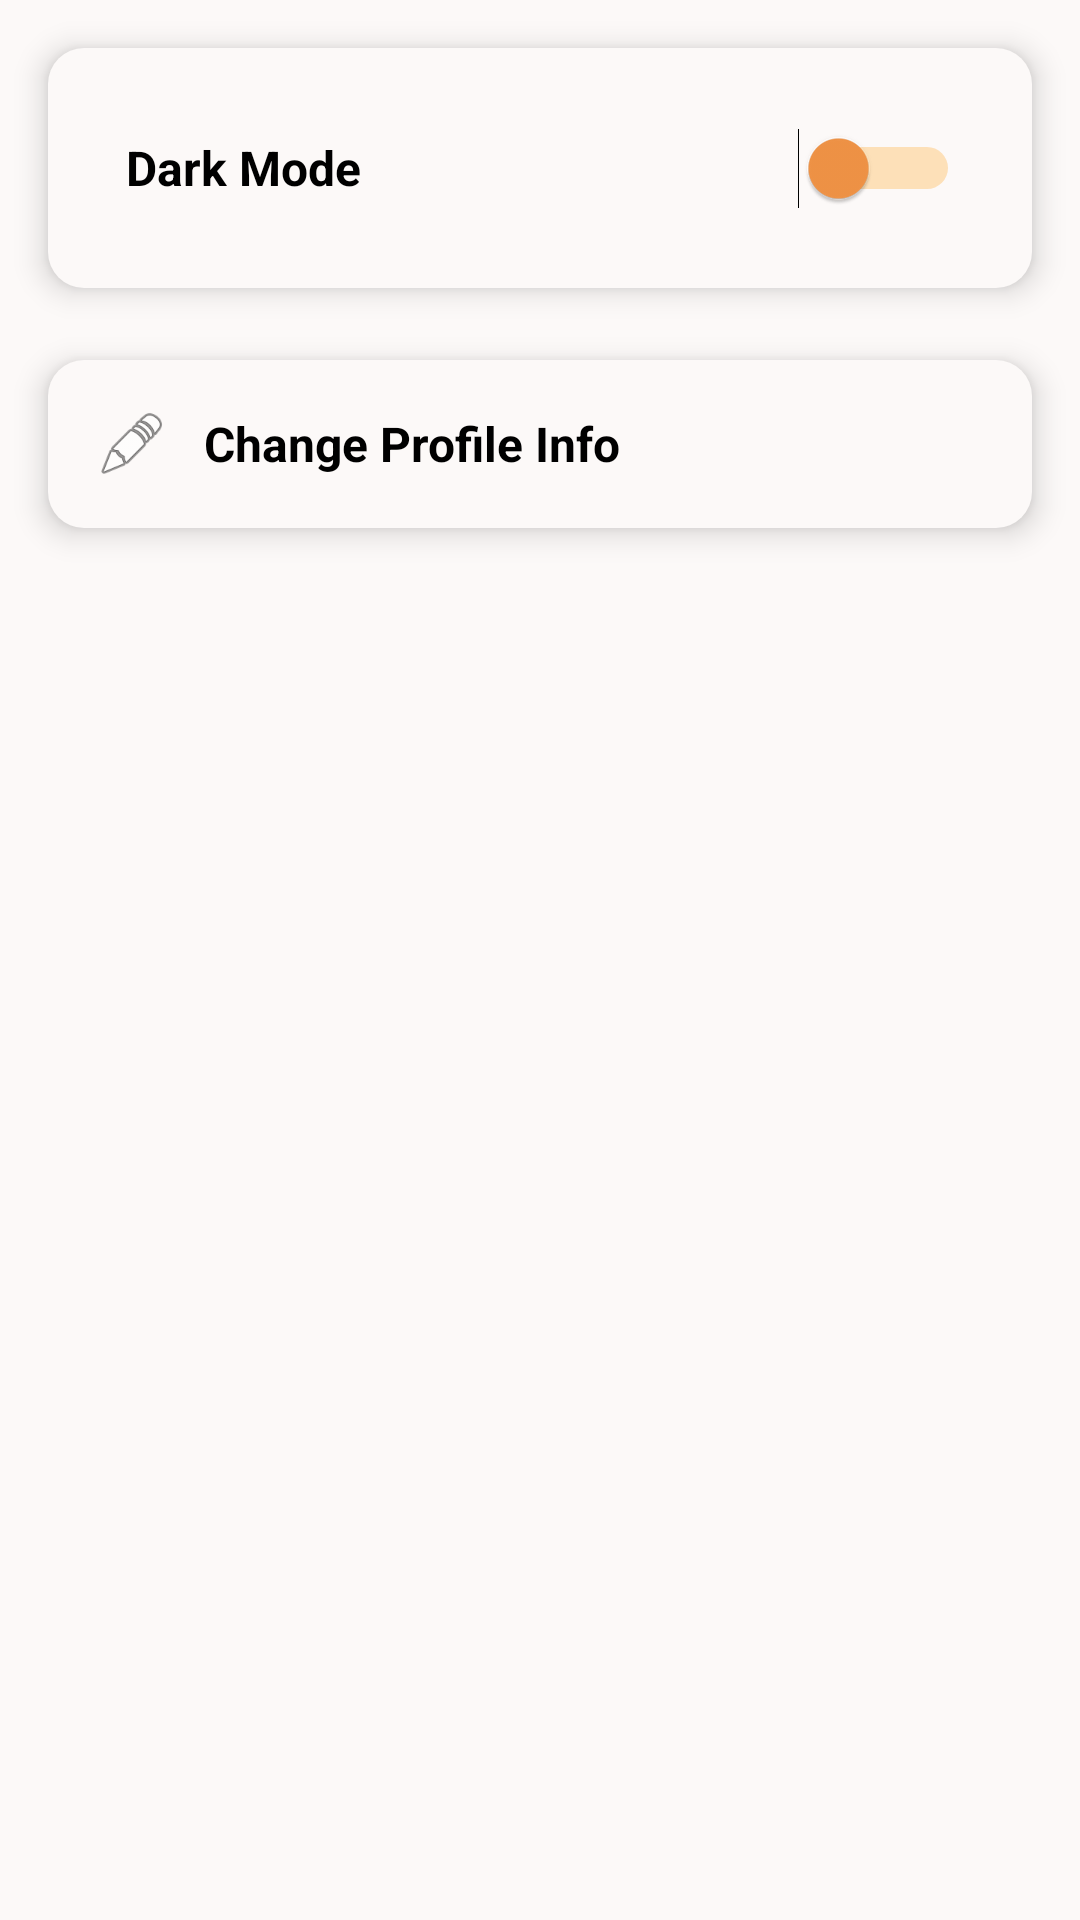

Screen size 1080x1920. Icon name, then its box in pixels as (x1, y1, x2, y2):
edit: (101, 413, 162, 474)
